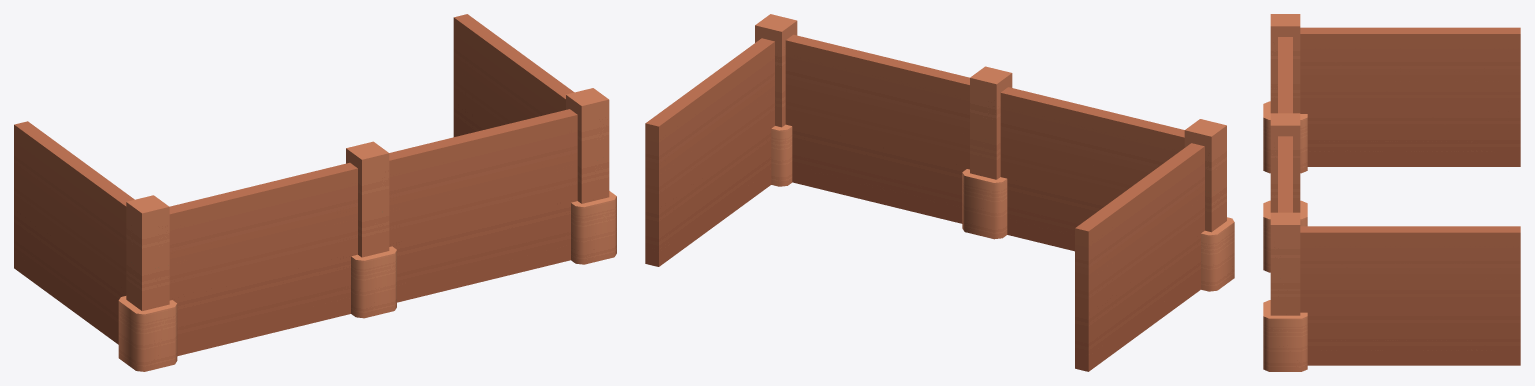
Rendered from fence-1x2.glb.
The picture shows the model from 3 angles, left to right: view 1: azimuth 30°, elevation 25°; view 2: azimuth 150°, elevation 25°; view 3: azimuth 270°, elevation 25°; orthographic projection. The views are drawn at different scales.
Visible parts, largest first — view 1: fence-1x2; view 2: fence-1x2; view 3: fence-1x2.
Part boxes in pixels (x1,y1,x2,y2): fence-1x2: (14, 14, 616, 371); fence-1x2: (645, 14, 1234, 371); fence-1x2: (1263, 14, 1520, 371).
Size of the model in its own units: 0.875 by 0.27 by 0.4375.
1 material, 1 textured.
